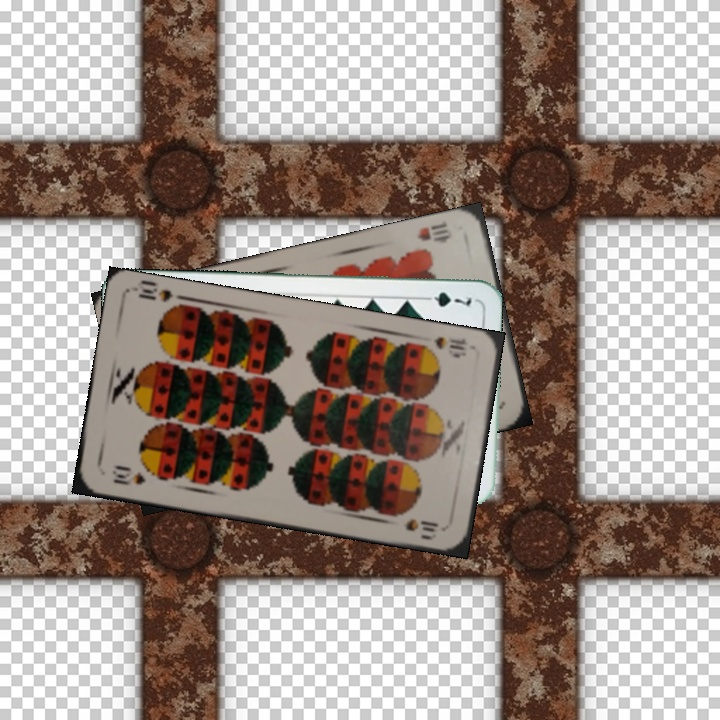G7: (417, 287, 474, 310)
H10: (413, 217, 455, 246)
S10: (416, 332, 471, 360), (108, 463, 148, 488)
